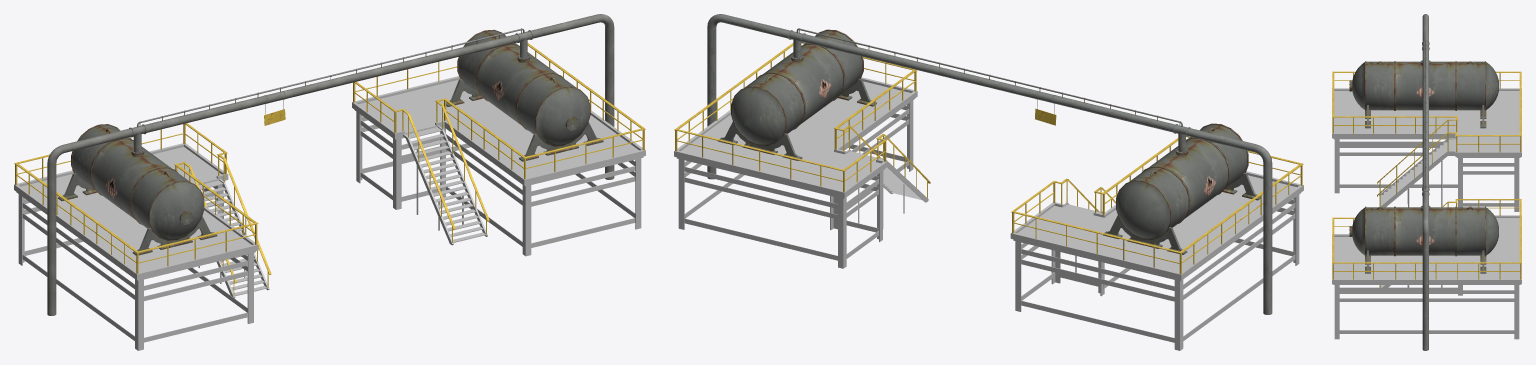
File: tank_1.FBX
3 renders of one model, left to right at view 1: azimuth 30°, elevation 25°; view 2: azimuth 150°, elevation 25°; view 3: azimuth 270°, elevation 25°, orthographic. The views are drawn at different scales.
Visible parts, largest first — view 1: Mesh Object; view 2: Mesh Object; view 3: Mesh Object.
Part boxes in pixels (<box>): Mesh Object: <box>14,14,645,350</box>; Mesh Object: <box>674,14,1303,350</box>; Mesh Object: <box>1332,14,1521,350</box>.
Size of the model in its own units: 30.71 by 8.88 by 11.56.
